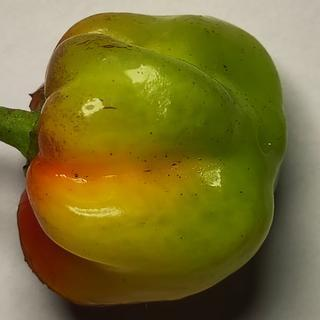Fly-bites: (68, 169, 83, 183), (142, 166, 152, 177), (170, 161, 178, 169), (147, 130, 156, 137), (178, 190, 185, 198), (222, 62, 229, 70), (193, 190, 199, 198), (107, 151, 115, 157)
striped: (94, 41, 142, 52), (100, 106, 121, 113)
